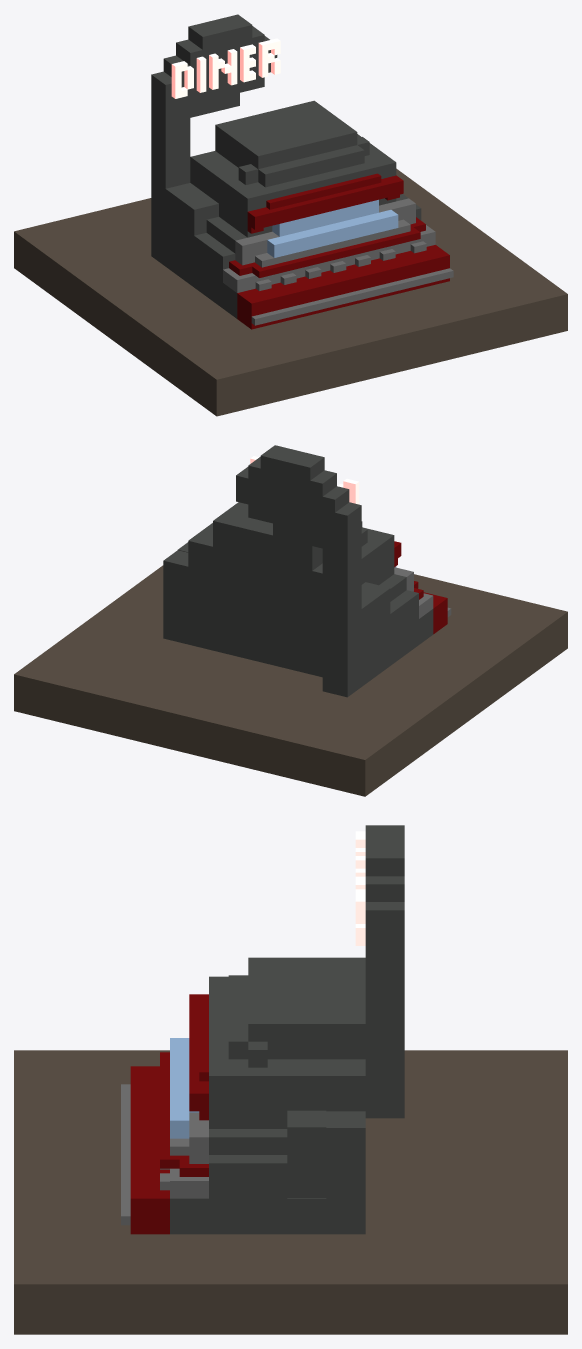
File: restaurant-1.glb
3 views of the same model, one above another, from view 1: azimuth 30°, elevation 25°; view 2: azimuth 150°, elevation 25°; view 3: azimuth 270°, elevation 25° (orthographic). The views are drawn at different scales.
Visible parts, largest first — view 1: Diner::New; view 2: Diner::New; view 3: Diner::New.
Part boxes in pixels (<box>): Diner::New: <box>14,14,567,416</box>; Diner::New: <box>14,445,567,796</box>; Diner::New: <box>14,825,567,1334</box>.
Size of the model in its own units: 1 by 0.7002 by 1.
